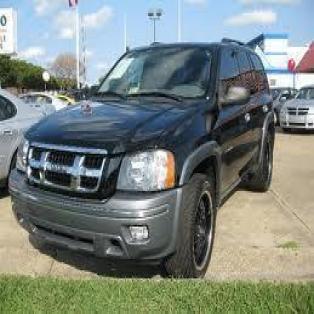Auto: (8, 36, 282, 280)
